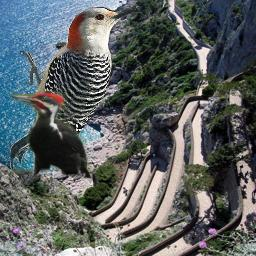Woodpecker: (10, 5, 141, 170), (10, 86, 93, 185)
